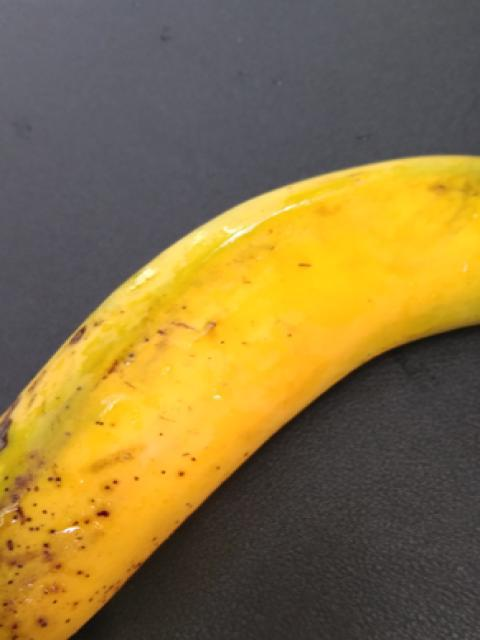ripe: (0, 148, 478, 639)
